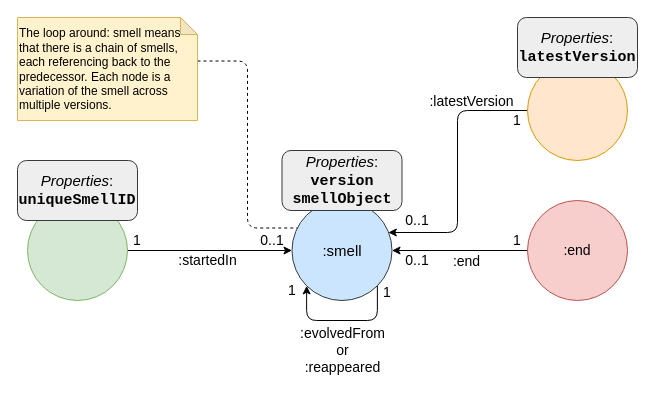
Image size: 655x393. Some labels were removed from this diagram. The centre of each missing label's shape, as x and y in pixels:
":head" goes at [77,250].
":tail" goes at [577,110].
